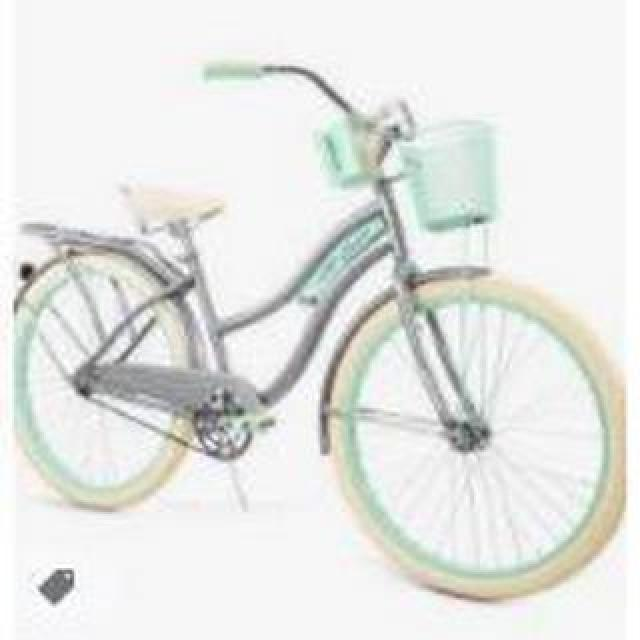Person: (22, 57, 622, 591)
